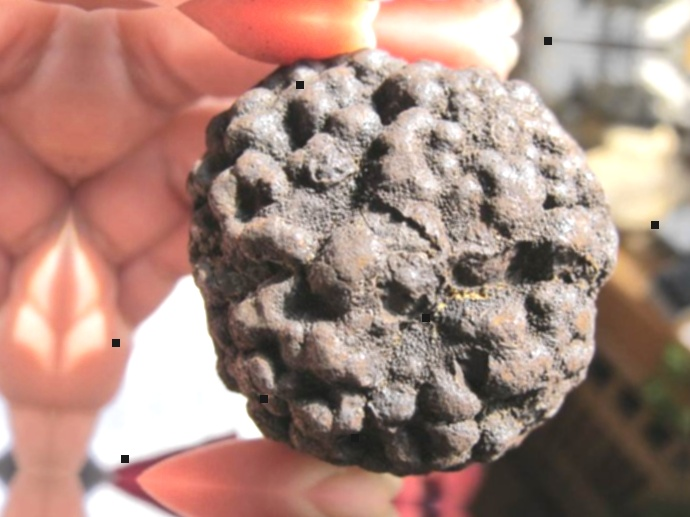halobolite: (163, 38, 636, 494)
